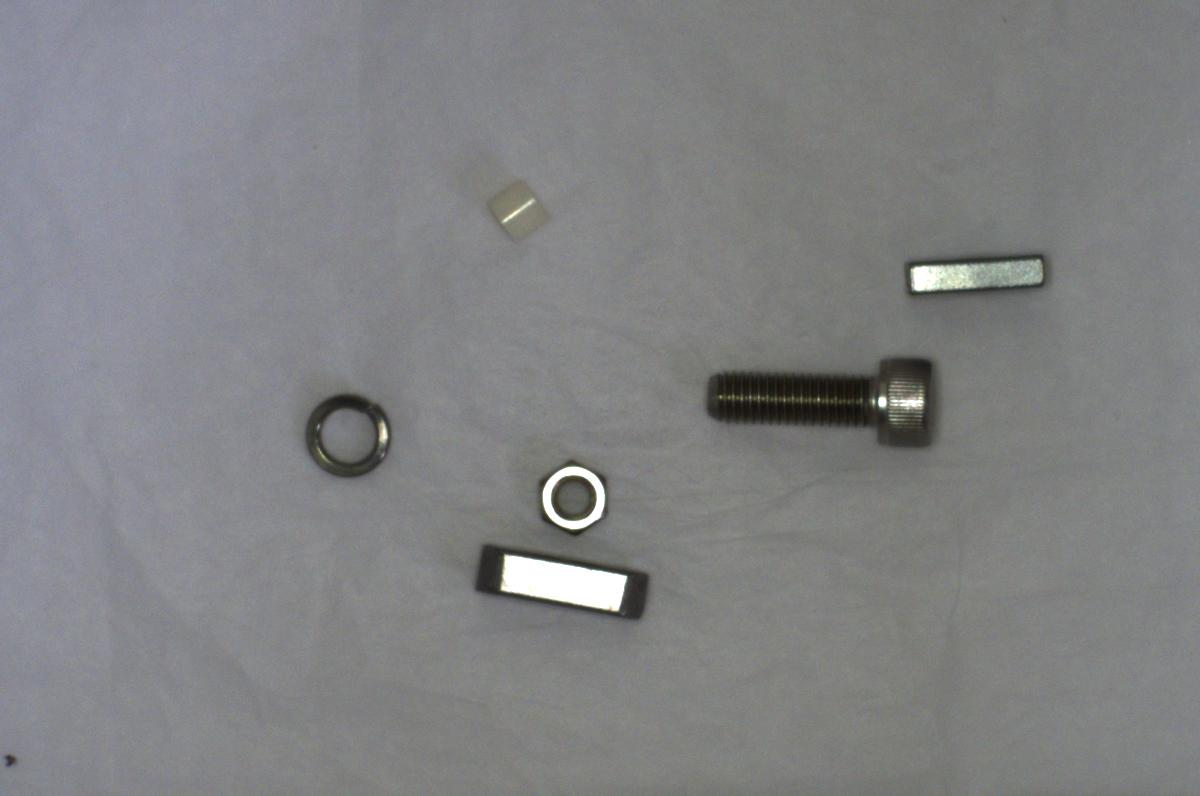Hexagon nut: (531, 452, 621, 536)
Hexagon screw: (693, 338, 939, 450)
Keybar: (471, 533, 657, 633)
Plastic cushion pillar: (481, 172, 558, 241)
Rectangular nut: (900, 246, 1052, 306)
Spring washer: (304, 387, 399, 479)
